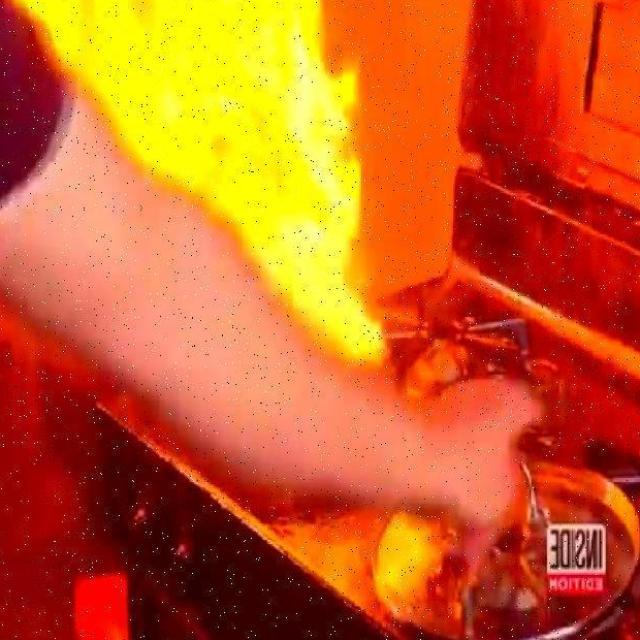smoke: (10, 0, 381, 366)
